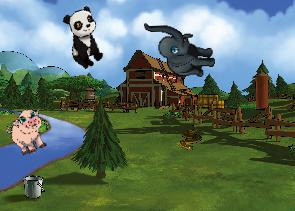elephant: (144, 20, 215, 78)
panda: (60, 5, 108, 71)
pig: (2, 105, 54, 159)
